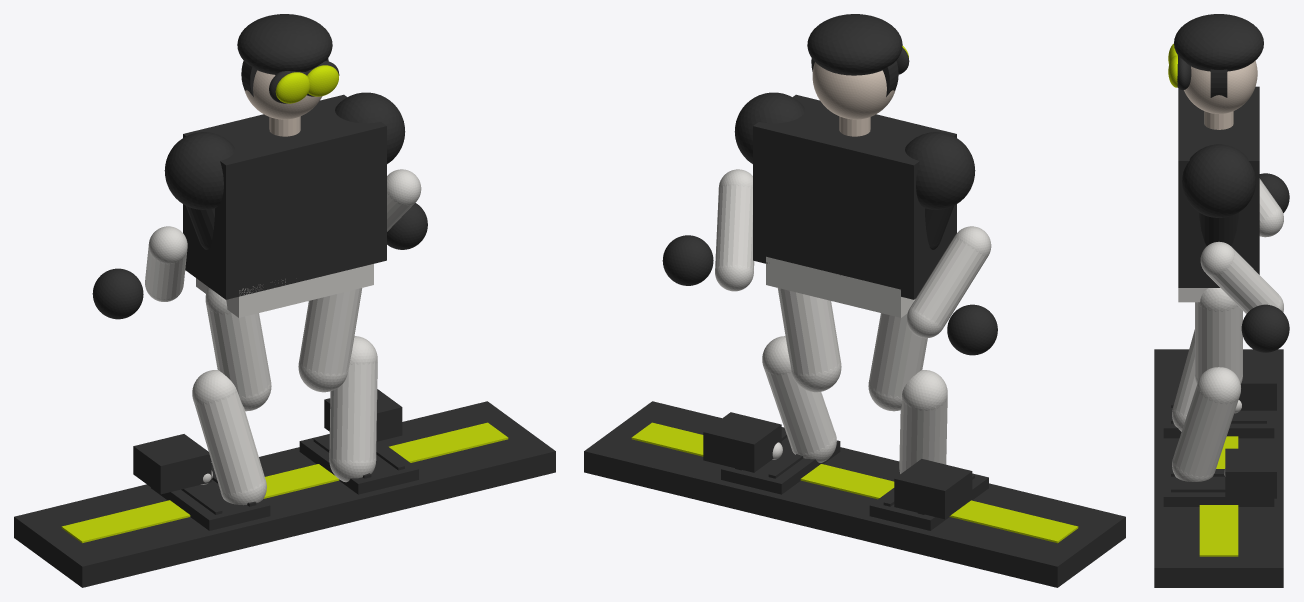
Rendered from vimo_main.glb.
The picture shows the model from 3 angles, left to right: view 1: azimuth 30°, elevation 25°; view 2: azimuth 150°, elevation 25°; view 3: azimuth 270°, elevation 25°; orthographic projection. The views are drawn at different scales.
Parts seen in each view (by area): view 1: vimo_main_figure; view 2: vimo_main_figure; view 3: vimo_main_figure.
Part boxes in pixels (bbox=[...]): vimo_main_figure: bbox=[14, 14, 555, 587]; vimo_main_figure: bbox=[584, 14, 1125, 587]; vimo_main_figure: bbox=[1154, 14, 1289, 587].
Bounding box in the file's own units: 0.14 × 0.1367 × 0.0366.
